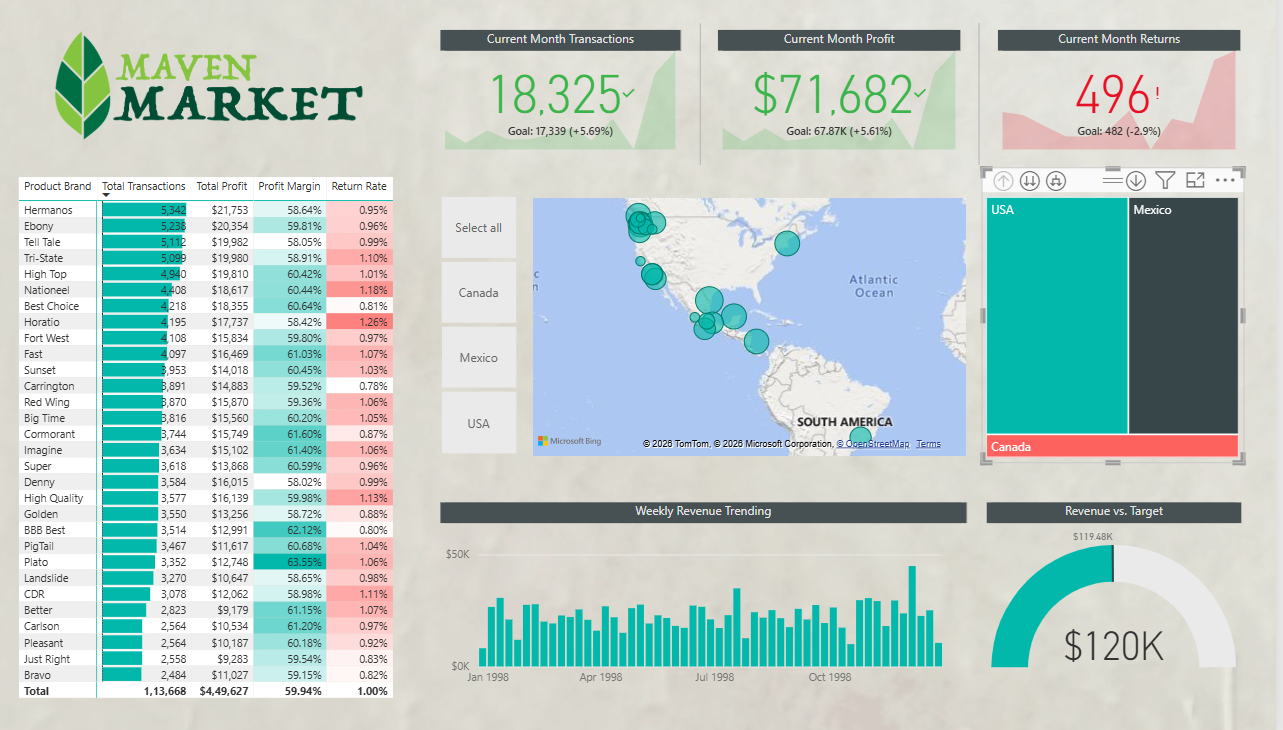

Layout of this report page (visuals, bound fields, positions):
{"tool":"powerbi","page":{"name":"Topline Performance","canvas":[1280,720],"ordinal":0},"visuals":[{"type":"image","box":[40,7.5,346.6,132.7],"z":0},{"type":"pivotTable","fields":{"Values":["Transaction_Data.Total Transactions","Transaction_Data.Total Profit","Transaction_Data.Profit Margin","Return_Data.Return Rate"],"Rows":["Products.product_brand"]},"box":[20.6,161.3,401.5,536],"z":1000},{"type":"kpi","title":"Current Month Transactions","fields":{"TrendLine":["Calendar.Start of Month"],"Goal":["Transaction_Data.Last Month Transactions"],"Indicator":["Transaction_Data.Total Transactions"]},"box":[445.9,19,240.2,124.7],"z":2000},{"type":"kpi","title":"Current Month Profit","fields":{"TrendLine":["Calendar.Start of Month"],"Goal":["Transaction_Data.Last Month Profit"],"Indicator":["Transaction_Data.Total Profit"]},"box":[723.3,19,242.5,124.7],"z":3000},{"type":"kpi","title":"Current Month Returns","fields":{"TrendLine":["Calendar.Start of Month"],"Goal":["Return_Data.Last Month Returns"],"Indicator":["Return_Data.Total Returns"]},"box":[1003,19,242.5,124.7],"z":4000},{"type":"map","fields":{"Category":["Stores.store_city"],"Size":["Transaction_Data.Total Transactions"]},"box":[532.8,182.5,442.7,266.5],"z":5000},{"type":"slicer","fields":{"Values":["Stores.store_country"]},"box":[420.5,178.9,124.7,270],"z":6000},{"type":"columnChart","title":"Weekly Revenue Trending","fields":{"Category":["Calendar.Start of Week"],"Y":["Transaction_Data.Total Revenue"]},"box":[445.9,490,525.3,192.2],"z":7000},{"type":"gauge","title":"Revenue vs. Target","fields":{"Y":["Transaction_Data.Total Revenue"],"TargetValue":["Transaction_Data.Revenue Target"]},"box":[991.1,490,254.4,171.6],"z":8000},{"type":"basicShape","box":[671.7,2.9,67.5,161.3],"z":9000},{"type":"basicShape","box":[950.3,2.9,67.5,161.3],"z":10000},{"type":"treemap","fields":{"Group":["Stores.store_country","Stores.store_state","Stores.store_city"],"Values":["Transaction_Data.Total Transactions"]},"box":[985.8,181.4,261.9,270],"z":11000}]}

Visuals, with their boxes in screenshot pixels (x1, y1, x2, y2), scaled from the page's 1280x720 canvas onto the 1283x730 screenshot:
image: left=40, top=8, right=388, bottom=142
pivotTable - Transaction_Data.Total Transactions x Transaction_Data.Total Profit: left=21, top=164, right=423, bottom=707
"Current Month Transactions" kpi: left=447, top=19, right=688, bottom=146
"Current Month Profit" kpi: left=725, top=19, right=968, bottom=146
"Current Month Returns" kpi: left=1005, top=19, right=1248, bottom=146
map - Stores.store_city x Transaction_Data.Total Transactions: left=534, top=185, right=978, bottom=455
slicer - Stores.store_country: left=421, top=181, right=546, bottom=455
"Weekly Revenue Trending" columnChart: left=447, top=497, right=973, bottom=692
"Revenue vs. Target" gauge: left=993, top=497, right=1248, bottom=671
basicShape: left=673, top=3, right=741, bottom=166
basicShape: left=953, top=3, right=1020, bottom=166
treemap - Stores.store_country x Stores.store_state: left=988, top=184, right=1251, bottom=458
